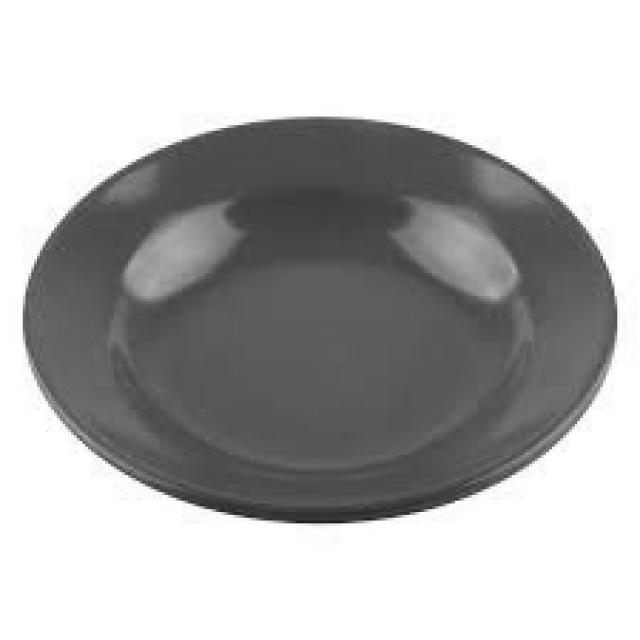dish: (9, 76, 628, 548)
